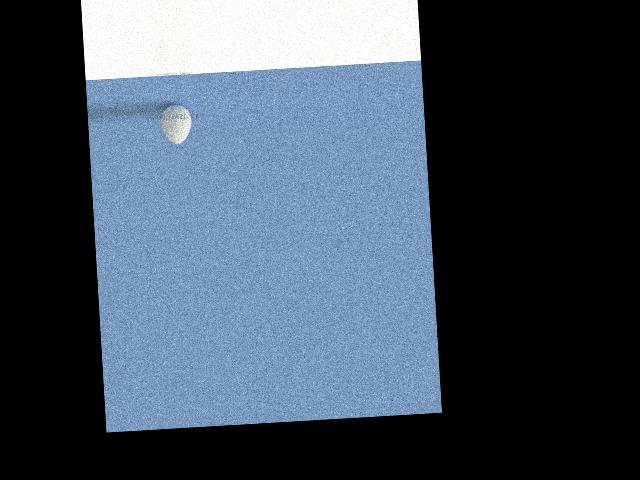egg: (160, 103, 193, 144)
